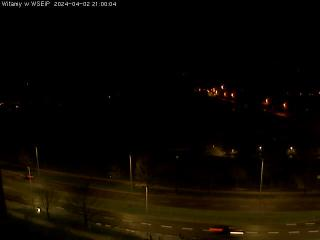car: (209, 224, 244, 238), (21, 172, 33, 180)
